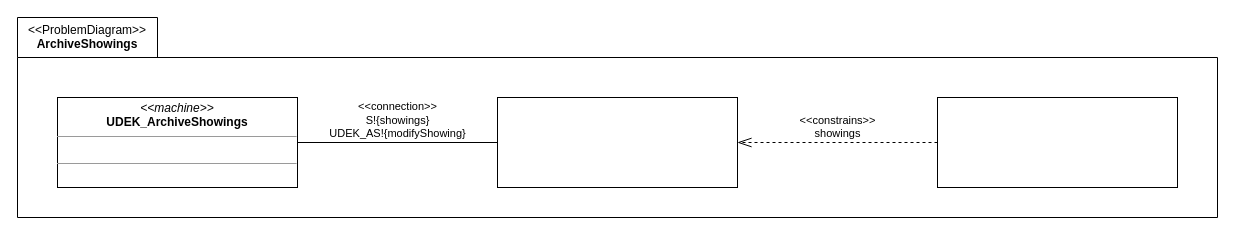
Image size: 1235x235. Some labels were removed from this diagram. Here are the shapes that lost their labels. From the top down, the centre of each, then its label:
At (x=617, y=142): "<<lexicalDomain, designedDomain>> Showing".
At (x=1057, y=142): "<<requirement>> (R07)".
